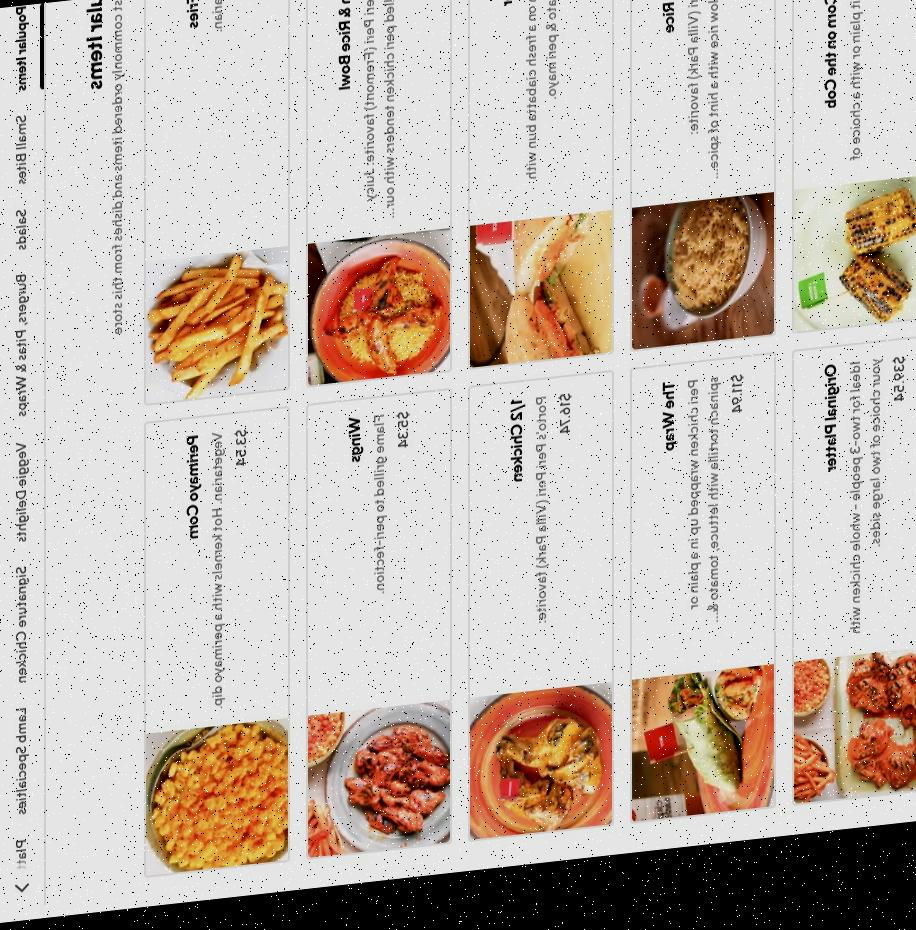Menu-Items: (650, 376, 758, 659), (814, 369, 916, 660), (328, 0, 436, 237), (493, 392, 581, 676), (176, 426, 256, 728), (489, 0, 592, 212), (649, 0, 752, 207), (338, 408, 418, 658), (813, 0, 913, 190), (177, 0, 258, 46)
